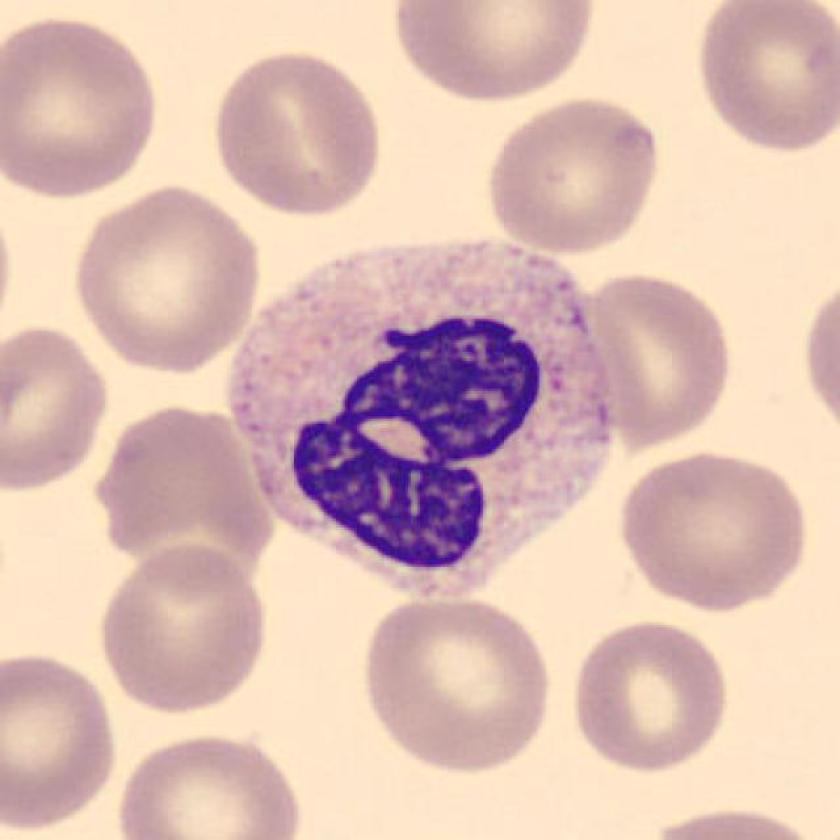neutrophil: (223, 240, 607, 594)
